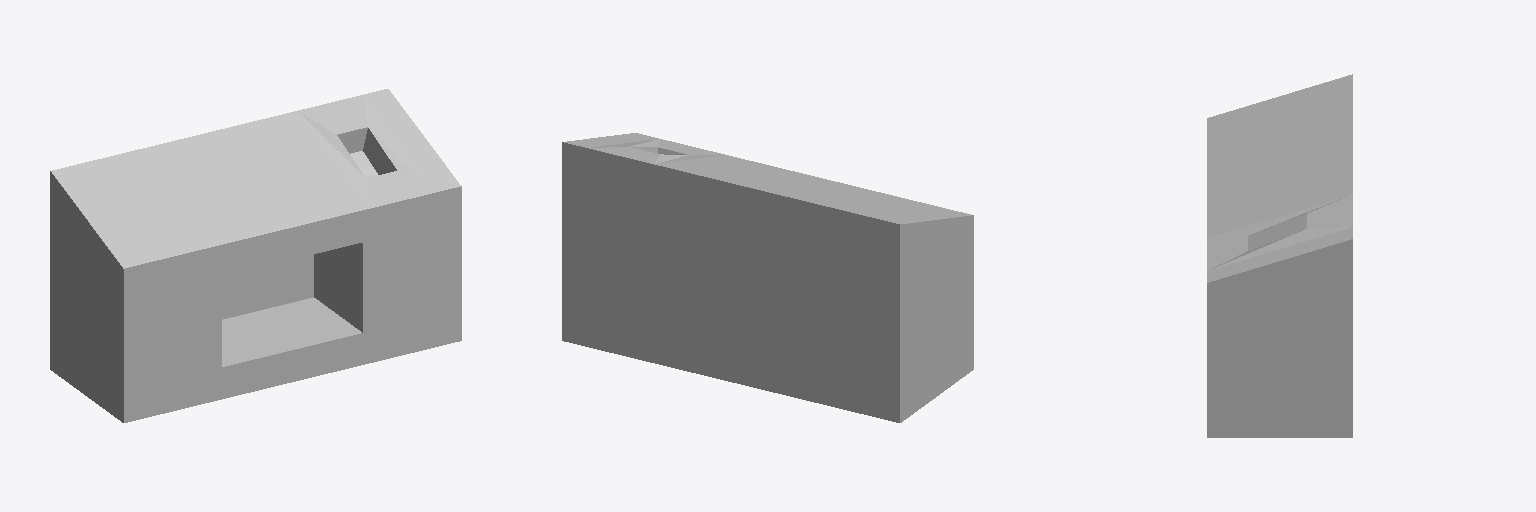
File: control_panel_body_1.obj
3 renders of one model, left to right at view 1: azimuth 30°, elevation 25°; view 2: azimuth 150°, elevation 25°; view 3: azimuth 270°, elevation 25°, orthographic.
Parts seen in each view (by area): view 1: Control_Panel; view 2: Control_Panel; view 3: Control_Panel.
Part boxes in pixels (x1,y1,x2,y2): Control_Panel: (50, 89, 461, 422); Control_Panel: (562, 133, 973, 422); Control_Panel: (1207, 74, 1352, 437).
Size of the model in its own units: 1.51 by 0.8475 by 0.565.